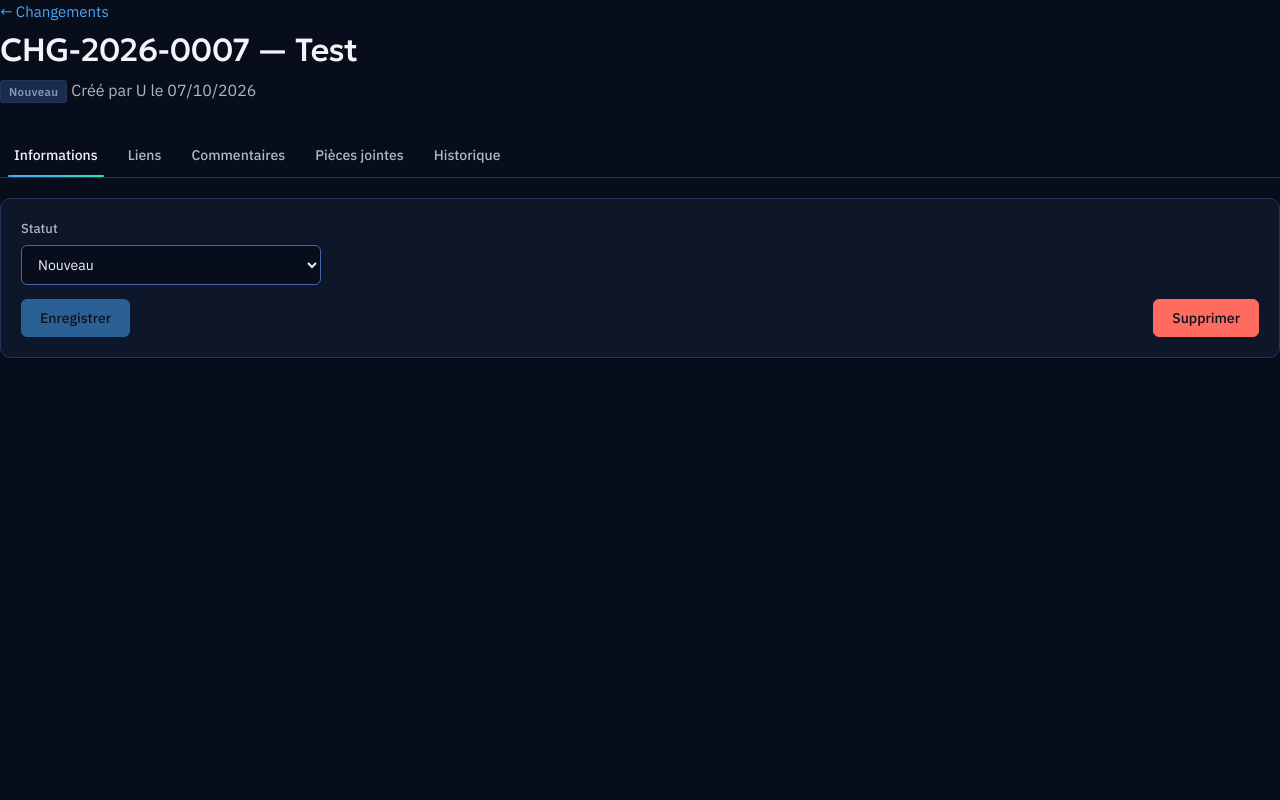
Test case: Annuler ou Échap ferme sans rien supprimer
Click the button "Supprimer". click: (1206, 318)
box: x1=1153 y1=299 x2=1259 y2=337
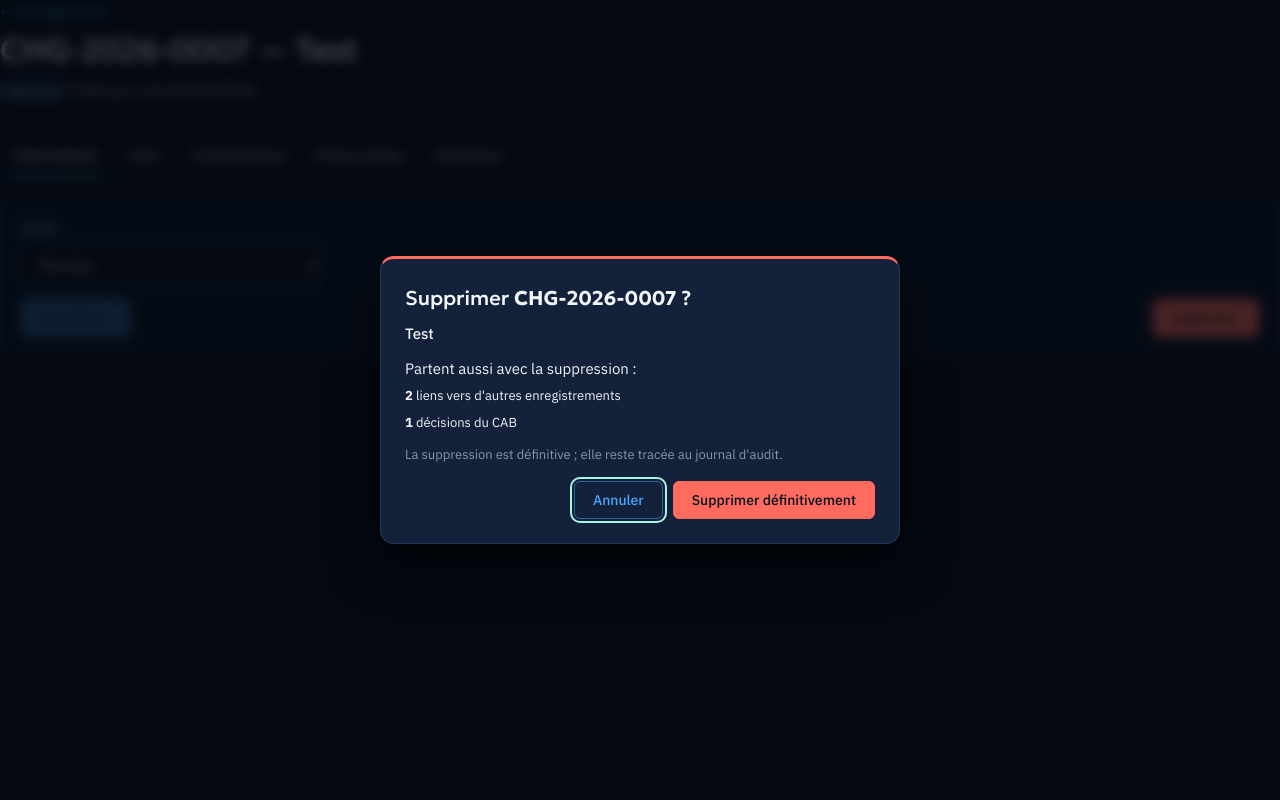
Now the dialog is shown, box x1=380 y1=256 x2=900 y2=544
Now the button "Annuler" is shown, box x1=574 y1=481 x2=663 y2=519
// L'écoute d'Échap est posée par le même effet que le focus : l'attendre avant d'appuyer.
Press Escape
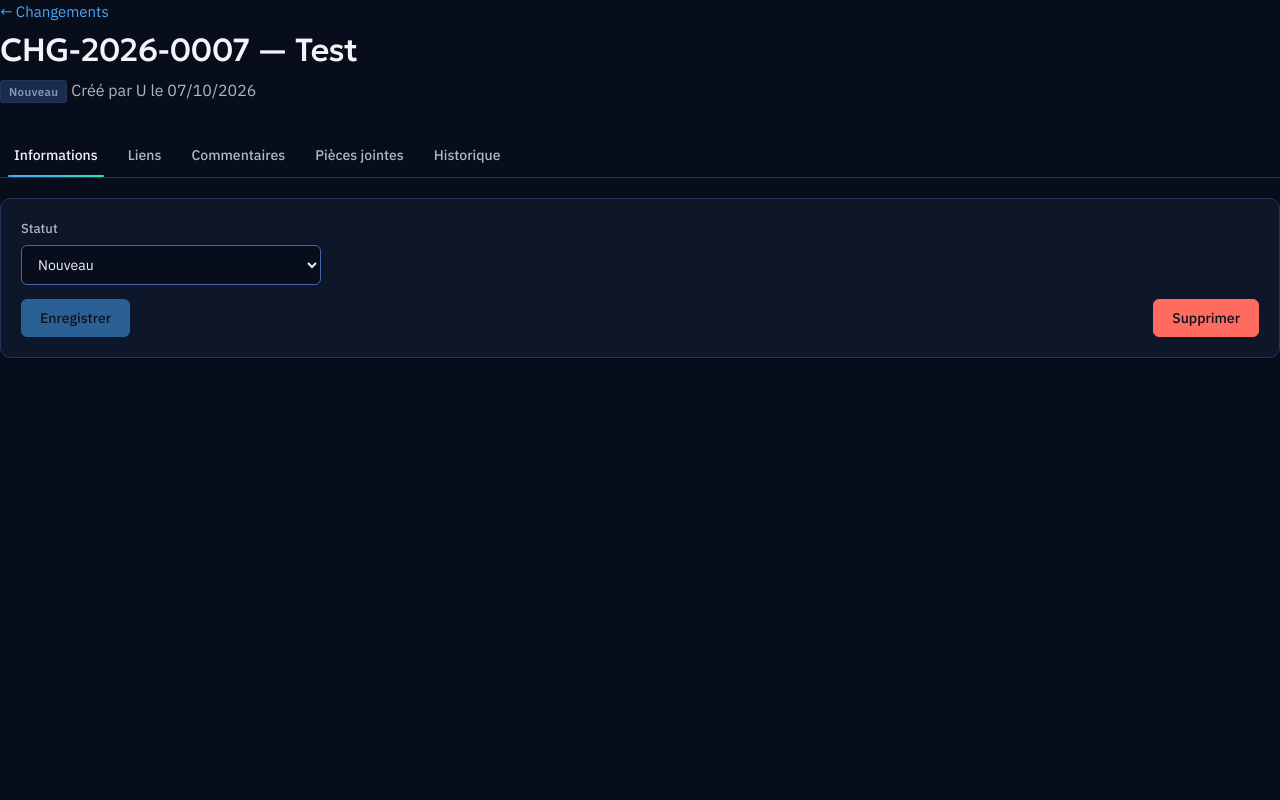
Now the dialog is gone
